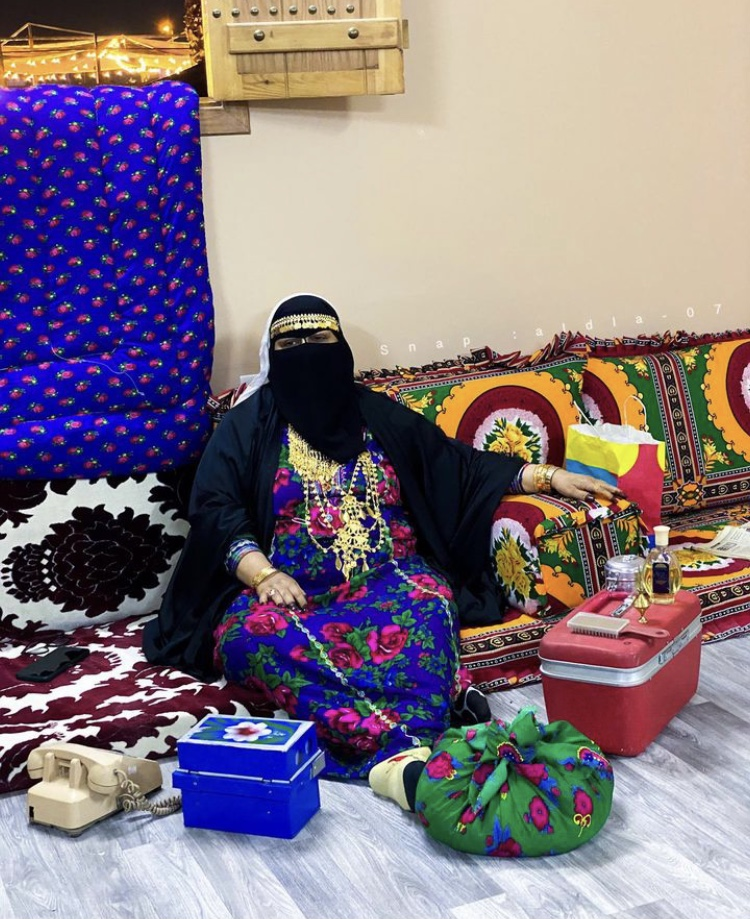Saudi_Founding_Day: (140, 292, 619, 859)
